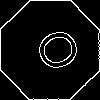O: (25, 25, 83, 79)
